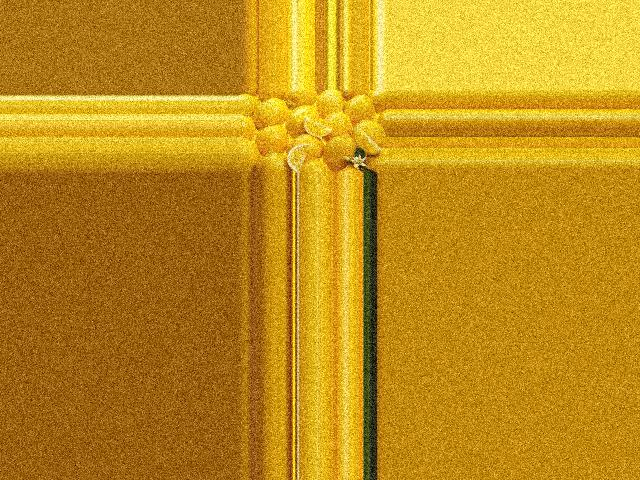lemon: (256, 146, 288, 173)
